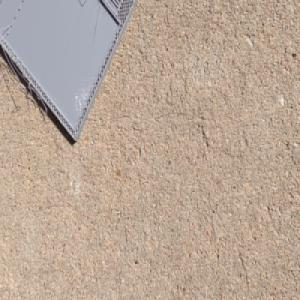PlasticPart: (0, 0, 140, 145)
